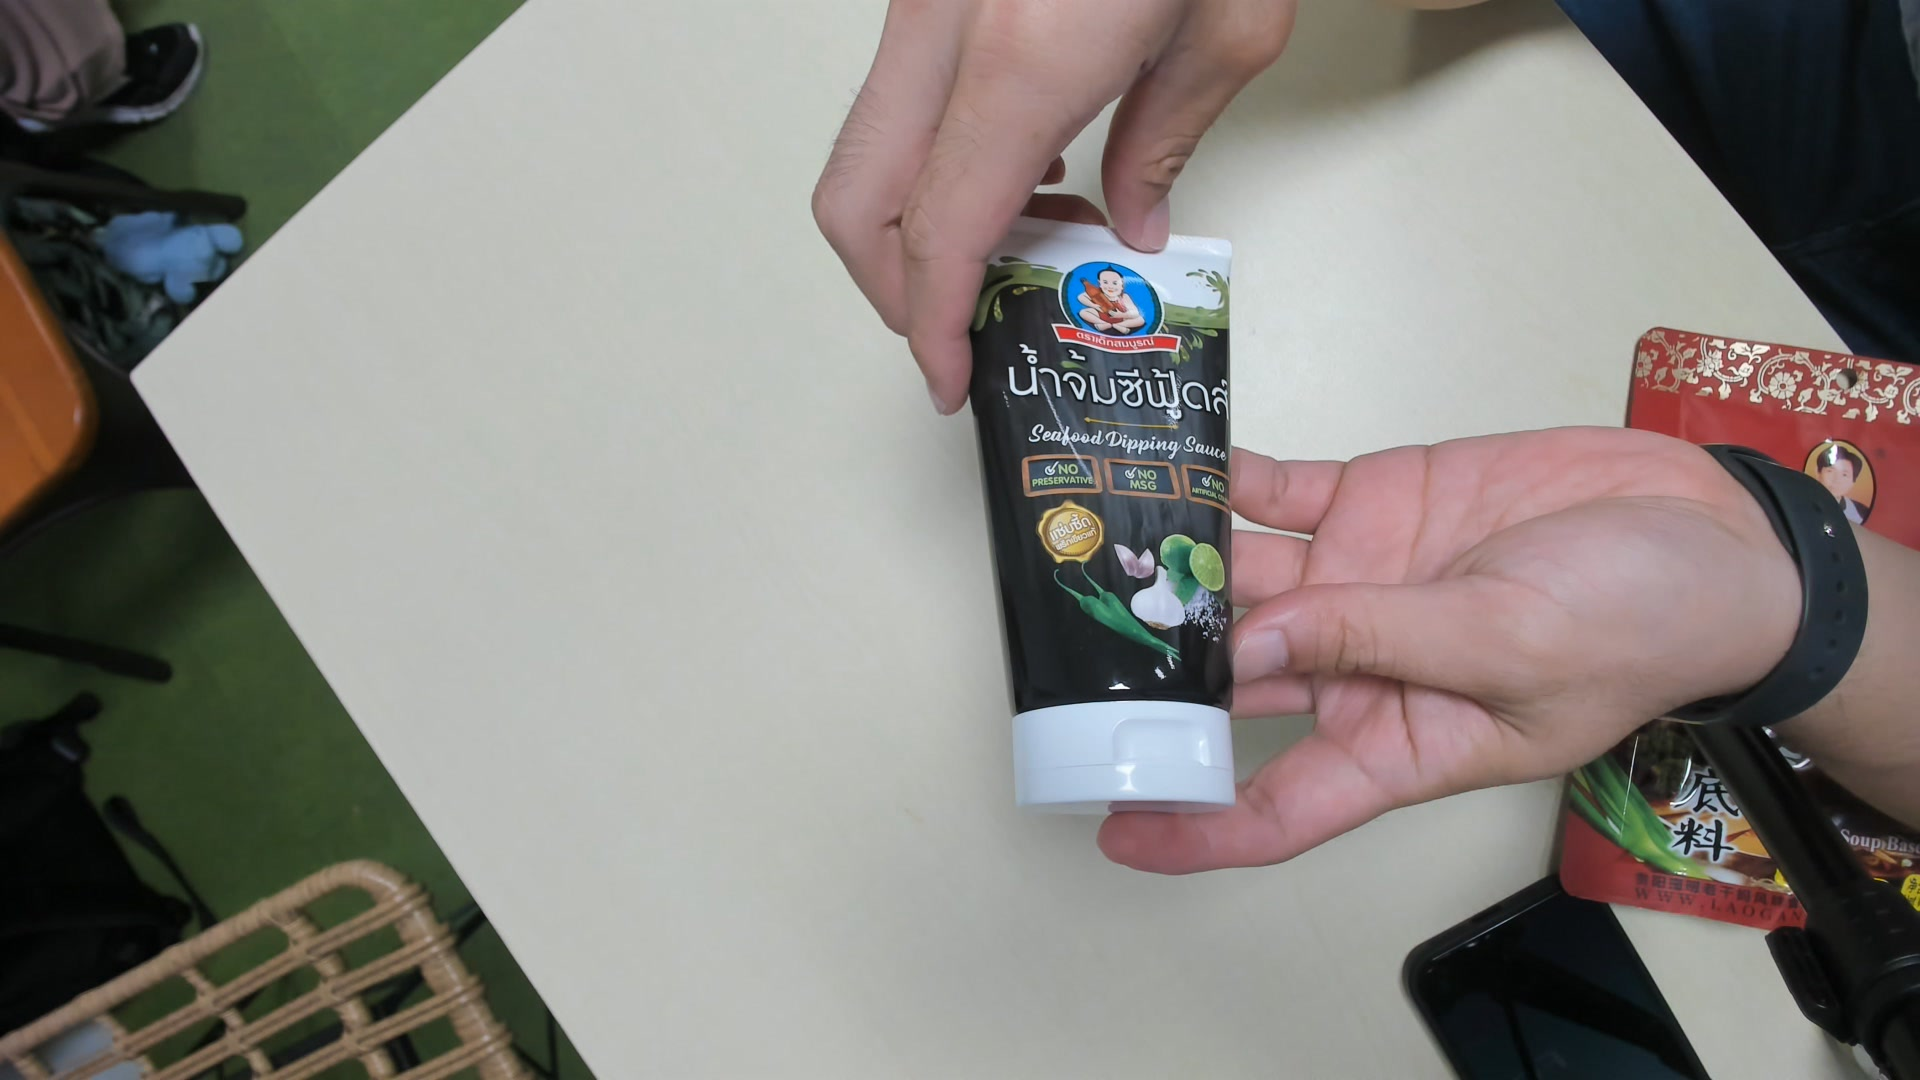OtherSauceDressing_100-199g_NonHalal_NonHealthy: (984, 220, 1246, 808)
